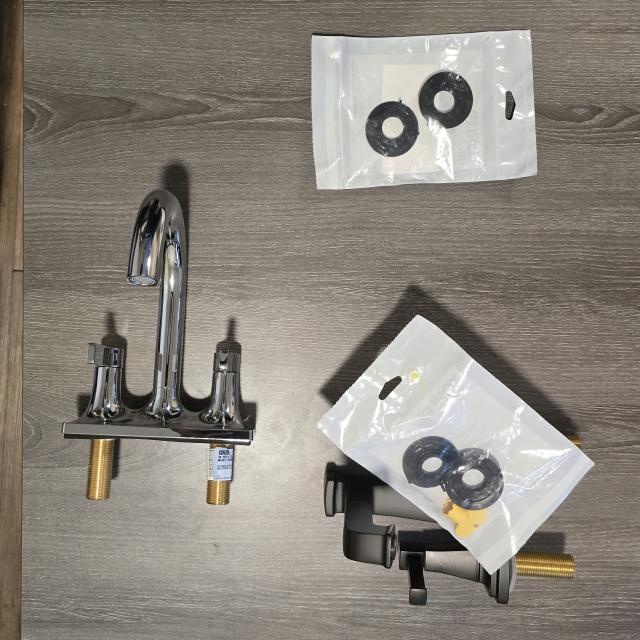10: (62, 190, 254, 504)
12: (318, 315, 594, 575)
13: (312, 30, 537, 189)
9o: (324, 463, 574, 605), (556, 426, 582, 450)
